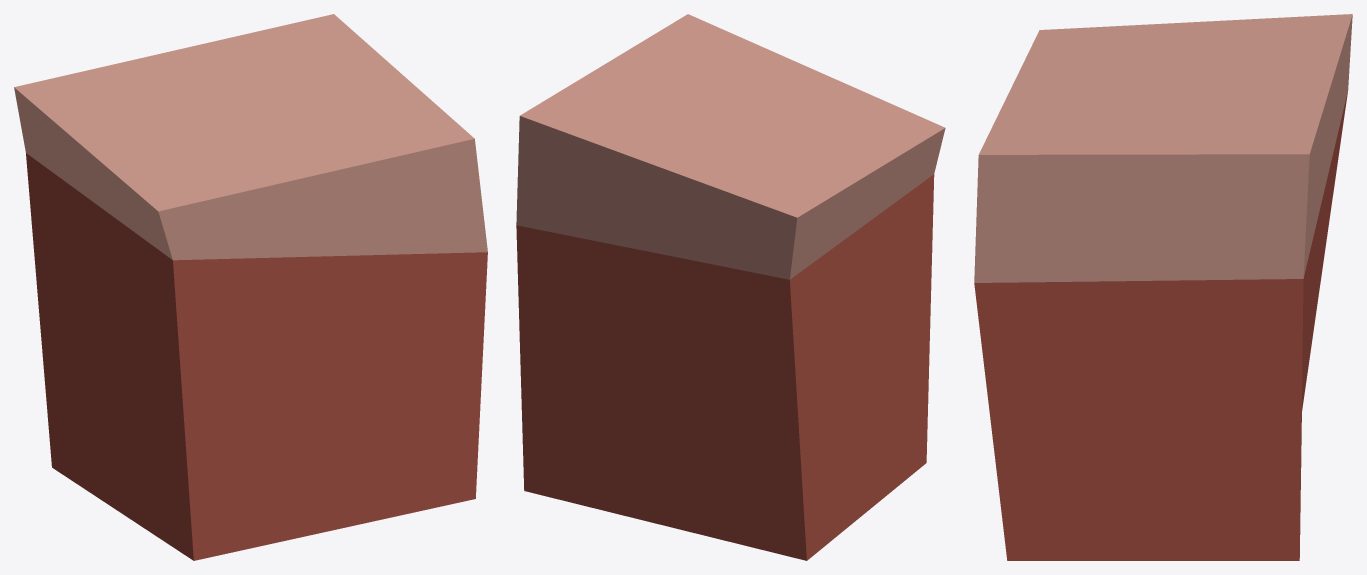
Rendered from picanhaCube02.fbx.
3 views of the same model, side by side, from view 1: azimuth 30°, elevation 25°; view 2: azimuth 150°, elevation 25°; view 3: azimuth 270°, elevation 25° (orthographic). The views are drawn at different scales.
Visible parts, largest first — view 1: picanhaCube02; view 2: picanhaCube02; view 3: picanhaCube02.
Boxes of the visible parts, x1=… form: picanhaCube02: x1=14, y1=14, x2=487, y2=560; picanhaCube02: x1=516, y1=14, x2=945, y2=560; picanhaCube02: x1=974, y1=14, x2=1352, y2=560.
Size of the model in its own units: 4.23 by 4.99 by 4.21.
1 material, 1 textured.
